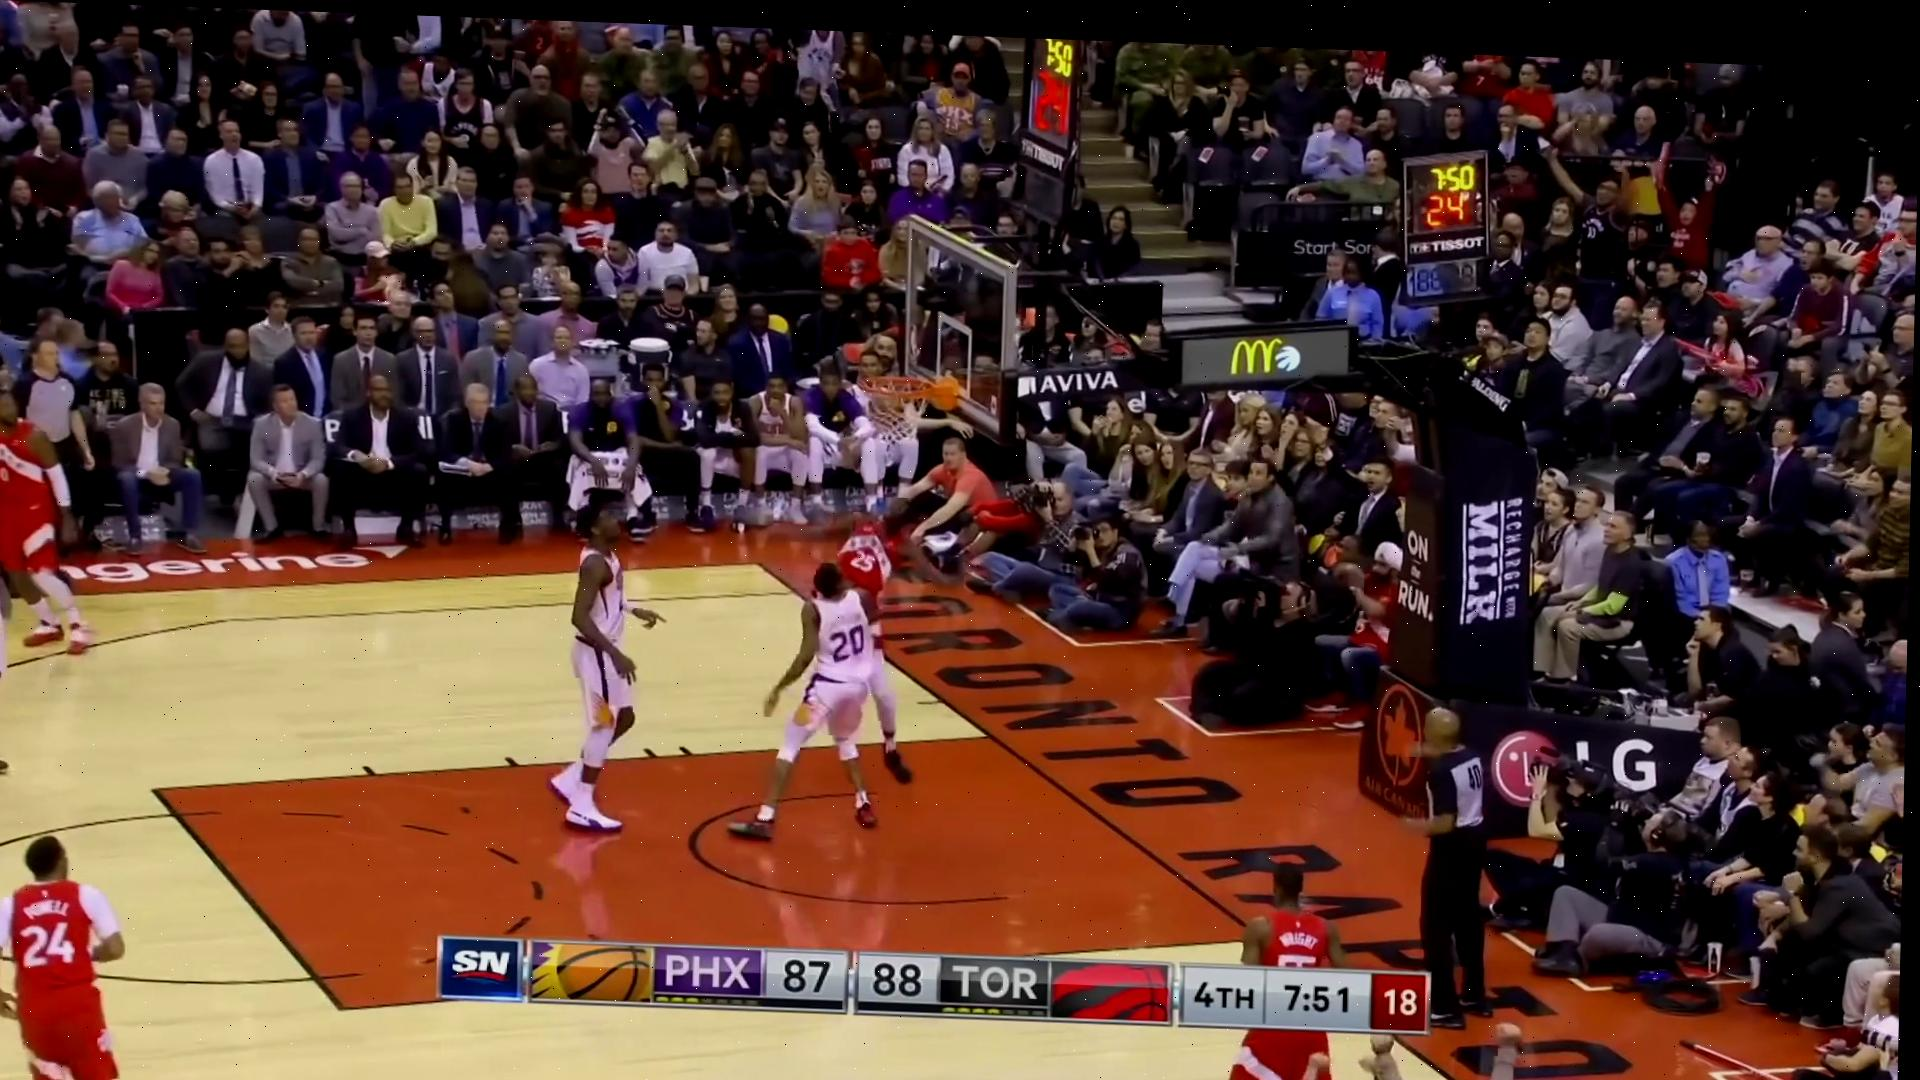foul: (753, 491, 934, 851)
